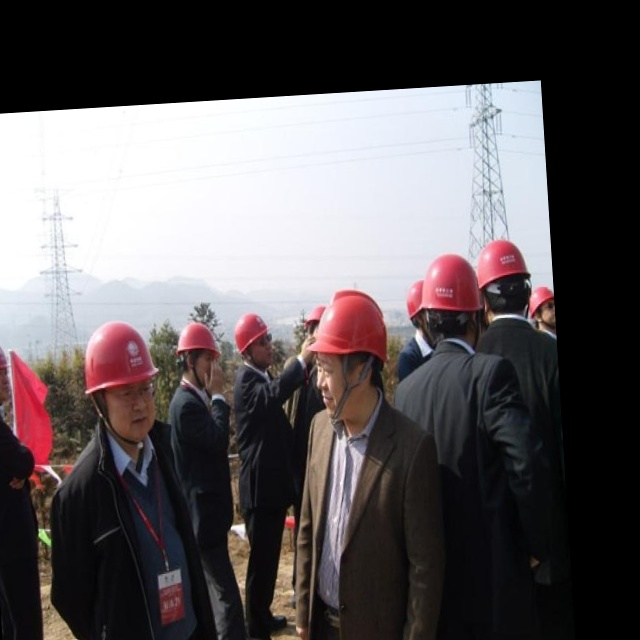Con_Casco: (309, 286, 391, 418), (81, 321, 161, 442)
